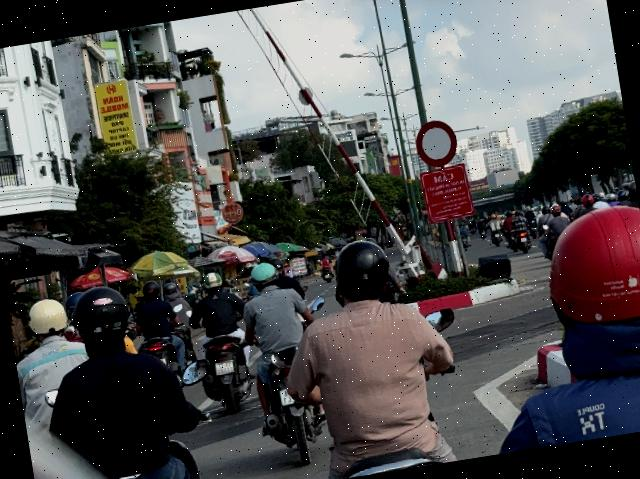duong-cam: (412, 118, 459, 170)
